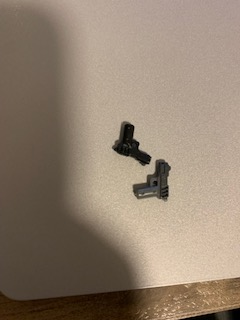pistol: (132, 155, 171, 208), (111, 122, 153, 168)
